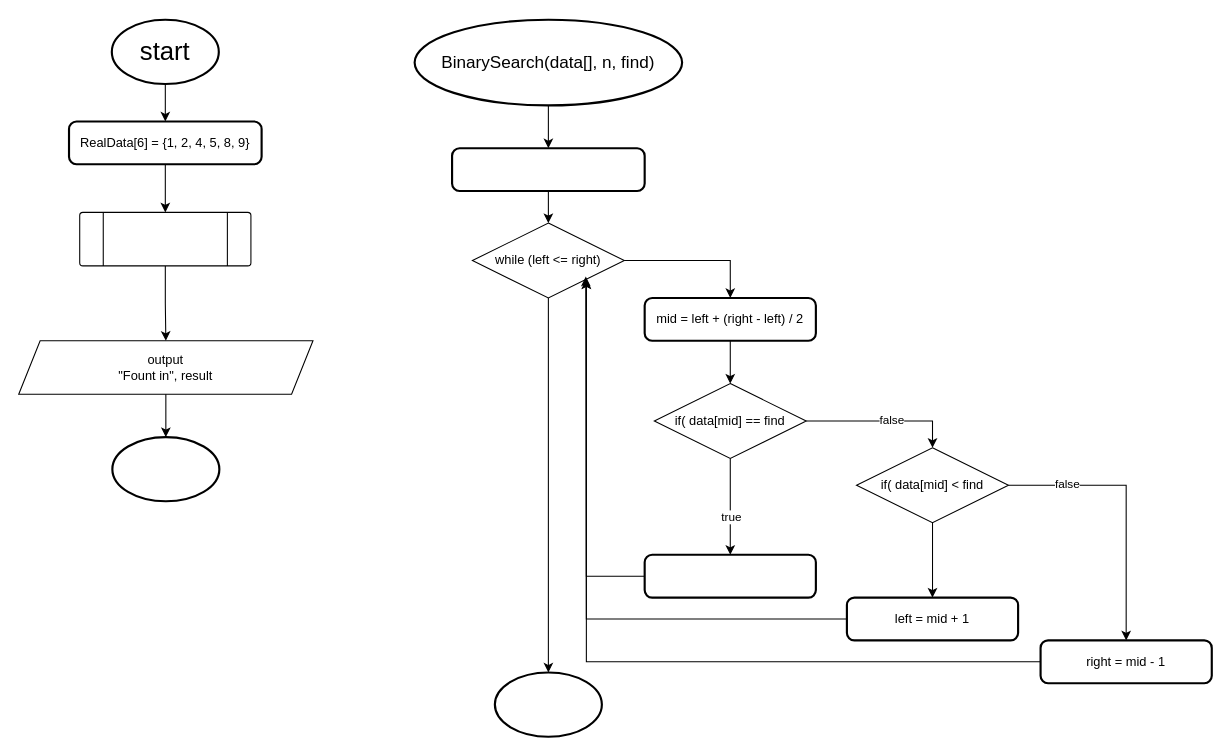
Image size: 1232x755. Some labels were removed from this diagram. The shapes that lost their labels are listed below. From the top down, each one's centre as x and y in pixels, then its label:
At [547,169]: "left = 0, right = n - 1, output = -1".
At [165,238]: "result = BinarySearch (RealData, 6, 8)".
At [165,468]: "end".
At [729,575]: "output = mid".
At [547,704]: "return output".
